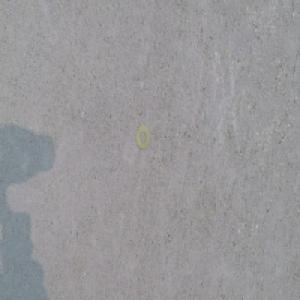Washer: (136, 123, 151, 151)
